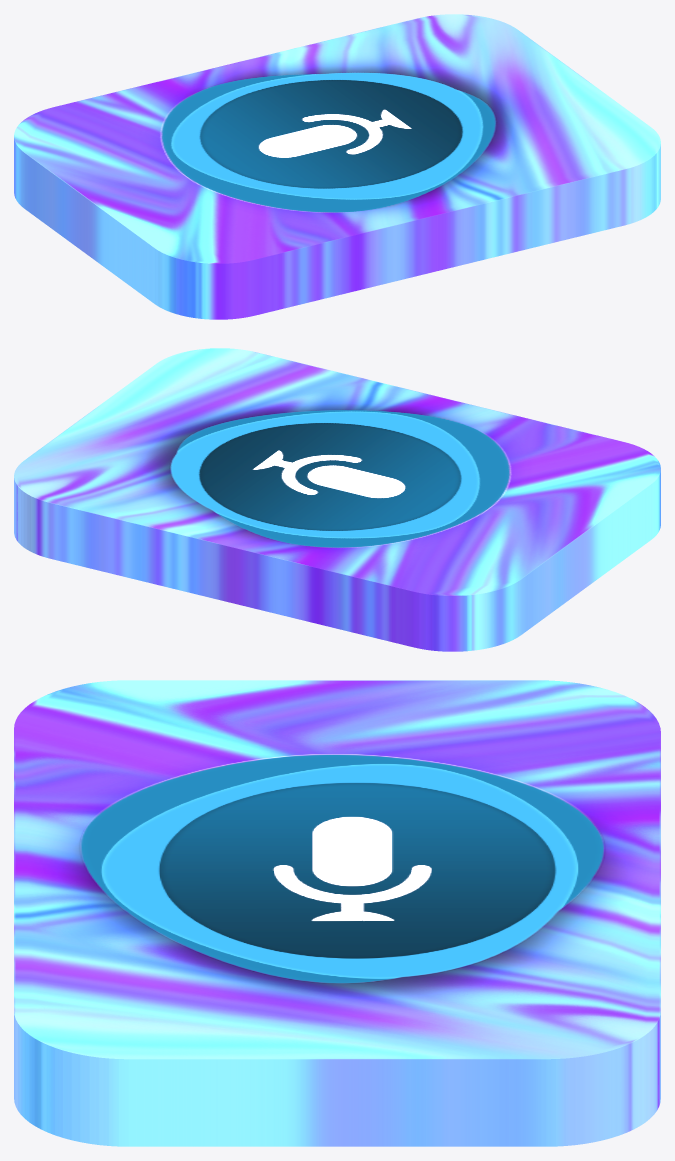
Rendered from js-assist.glb.
3 renders of one model, top to bottom at view 1: azimuth 30°, elevation 25°; view 2: azimuth 150°, elevation 25°; view 3: azimuth 270°, elevation 25°, orthographic. The views are drawn at different scales.
Parts seen in each view (by area): view 1: Plane; view 2: Plane; view 3: Plane.
Part boxes in pixels (x1,y1,x2,y2): Plane: (14,14,660,319); Plane: (14,348,660,651); Plane: (14,680,660,1146).
Size of the model in its own units: 3.9 by 0.4196 by 2.81.
1 material, 1 textured.
